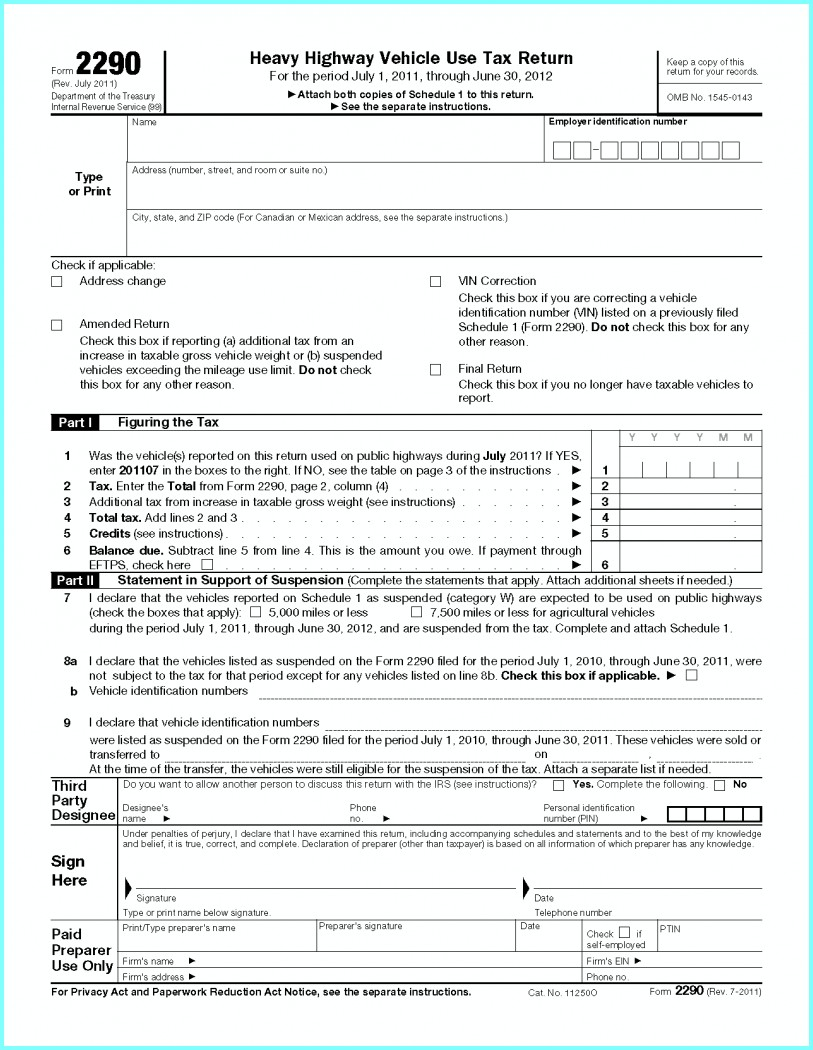checkbox: (47, 272, 68, 290), (46, 315, 67, 333), (426, 272, 447, 290), (425, 360, 446, 378), (681, 665, 702, 683), (547, 775, 568, 793), (709, 775, 730, 793), (614, 921, 635, 939), (246, 602, 267, 620), (406, 602, 427, 620), (196, 556, 217, 574)
textbox: (123, 155, 766, 214), (122, 201, 765, 260), (124, 110, 548, 168), (199, 946, 585, 971), (199, 962, 585, 987), (312, 916, 519, 955), (115, 916, 320, 954), (615, 440, 766, 482), (616, 538, 764, 574), (653, 916, 767, 956), (616, 472, 767, 498), (615, 487, 766, 513), (615, 502, 766, 528), (615, 520, 766, 546), (628, 962, 769, 987), (641, 946, 770, 971), (511, 915, 588, 956), (662, 803, 766, 826)
textline: (131, 861, 521, 893), (254, 681, 765, 705), (319, 710, 770, 734), (121, 902, 532, 924), (532, 861, 768, 892), (133, 888, 529, 905), (160, 748, 532, 766), (161, 800, 348, 827), (379, 800, 541, 830), (529, 889, 772, 907), (530, 904, 773, 922), (653, 746, 759, 766), (546, 746, 645, 766)
